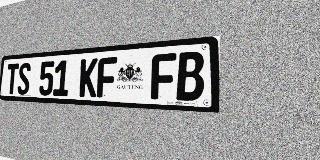1: (53, 60, 70, 96)
5: (39, 61, 54, 96)
B: (176, 51, 204, 101)
F: (151, 53, 176, 100), (97, 57, 117, 98)
K: (79, 58, 98, 97)
S: (17, 62, 31, 95)
T: (6, 63, 19, 94)
